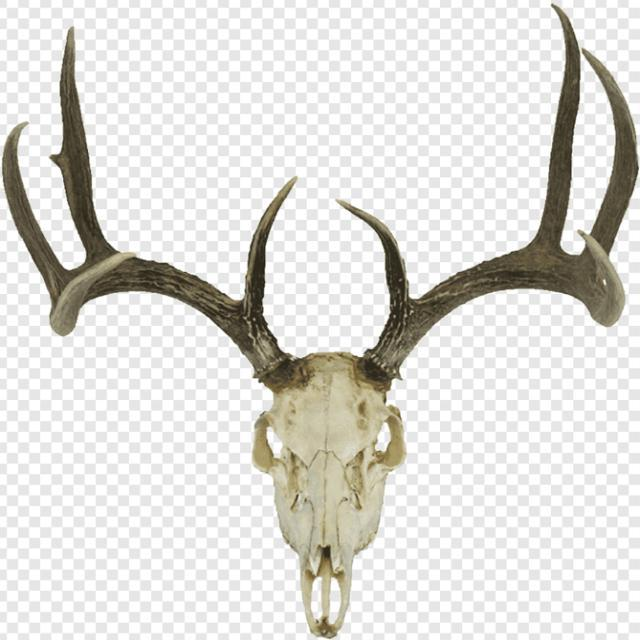L-F: (358, 227, 630, 392)
L-G1: (333, 196, 412, 315)
L-G2: (526, 2, 582, 250)
R-F: (49, 252, 286, 376)
R-G1: (240, 173, 299, 316)
R-G2: (47, 21, 119, 263)
R-G3: (0, 118, 70, 307)
